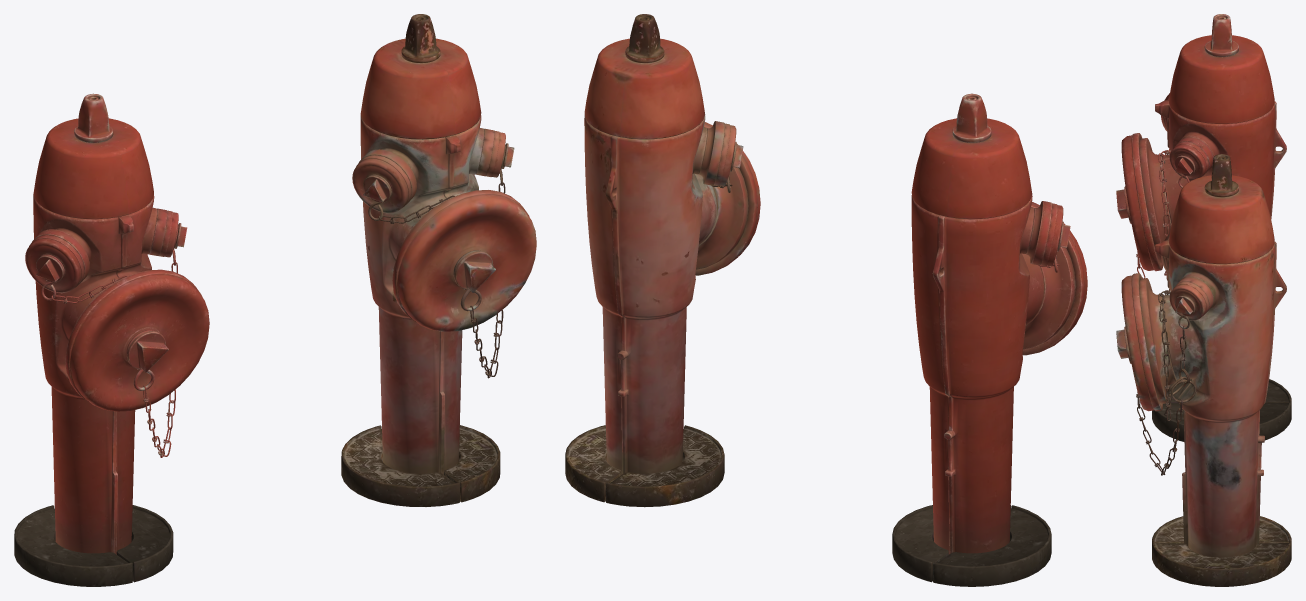
The model's file is fire_hydrant.glb.
3 views of the same model, side by side, from view 1: azimuth 30°, elevation 25°; view 2: azimuth 150°, elevation 25°; view 3: azimuth 270°, elevation 25° (orthographic). The views are drawn at different scales.
Visible parts, largest first — view 1: fire_hydrant_aged, fire_hydrant; view 2: fire_hydrant, fire_hydrant_aged; view 3: fire_hydrant_aged, fire_hydrant.
Boxes of the visible parts, x1,y1,x2,y2 form: fire_hydrant_aged: (341, 14, 536, 506); fire_hydrant: (14, 93, 209, 586); fire_hydrant: (892, 93, 1087, 586); fire_hydrant_aged: (565, 14, 760, 507); fire_hydrant_aged: (1116, 154, 1291, 586); fire_hydrant: (1116, 14, 1291, 441).
Bounding box in the file's own units: 0.8745 × 0.7995 × 0.3177.
Materials: 2 (2 with a texture image).
